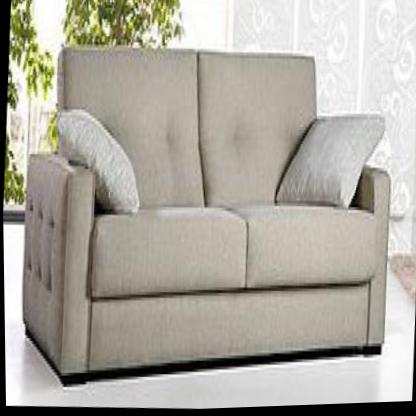Sofa: (13, 33, 403, 404)
